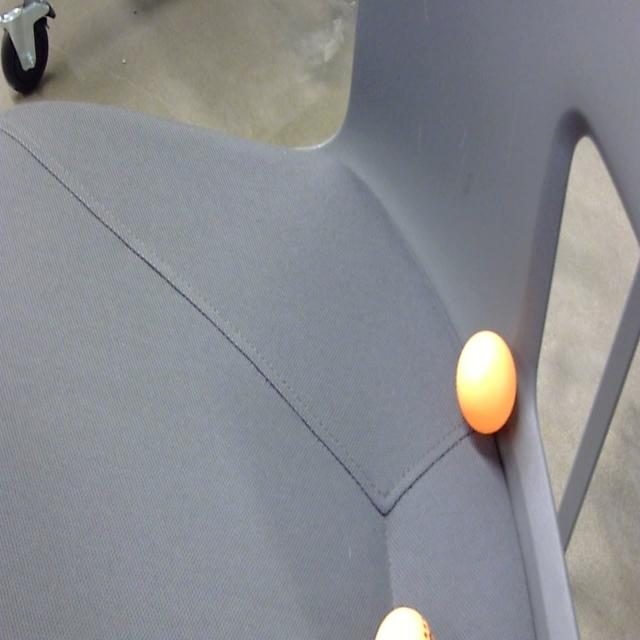ball: (455, 326, 518, 438), (369, 602, 440, 640)
